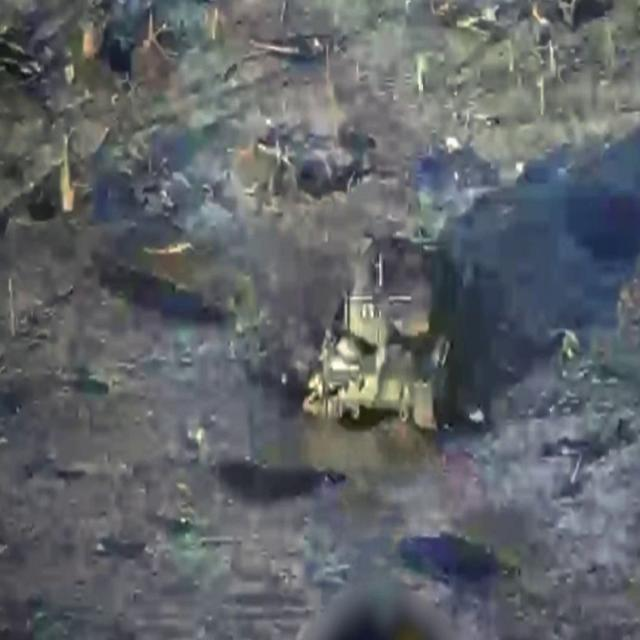MBT: (304, 232, 469, 426)
